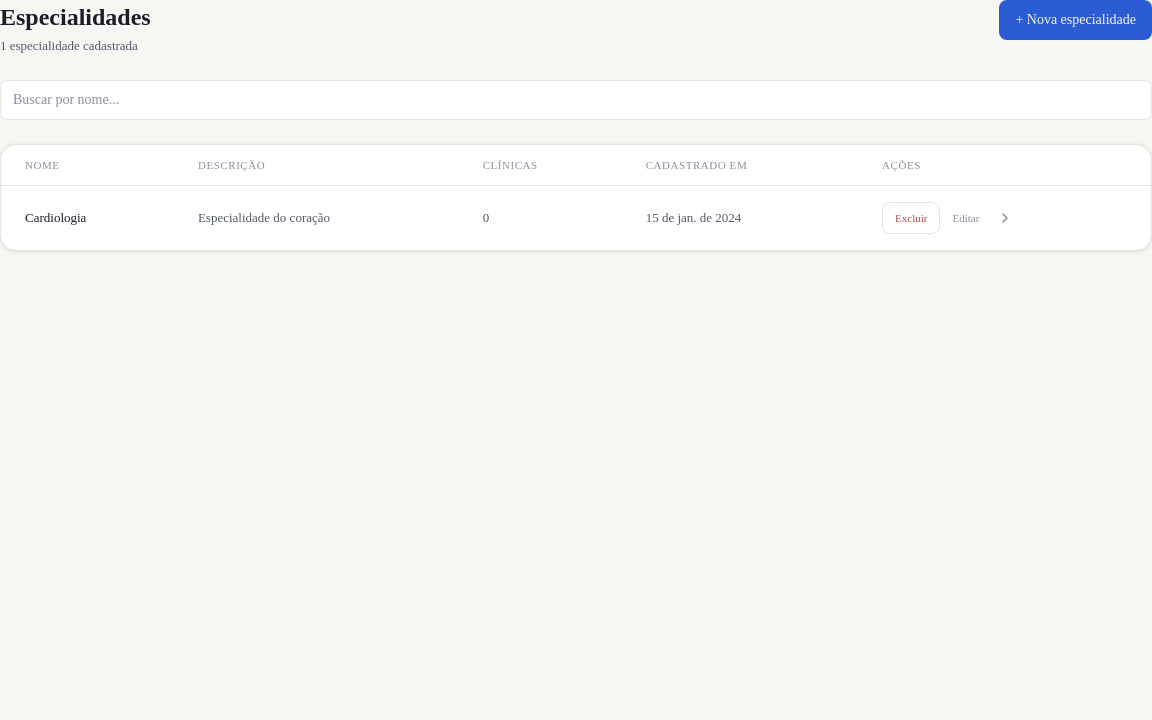
Scenario: SpecialtyList (integration) › as PLATFORM_ADMIN › opens delete dialog when delete button is clicked
The width and height of the screenshot is (1152, 720).
Expected: the table with test id "specialty-list-table" is shown, top-left (1, 145), bottom-right (1151, 250)
Click the button with test id "specialty-delete-button-uuid-1" at coordinates (911, 218), box top-left (882, 202), bottom-right (940, 234)
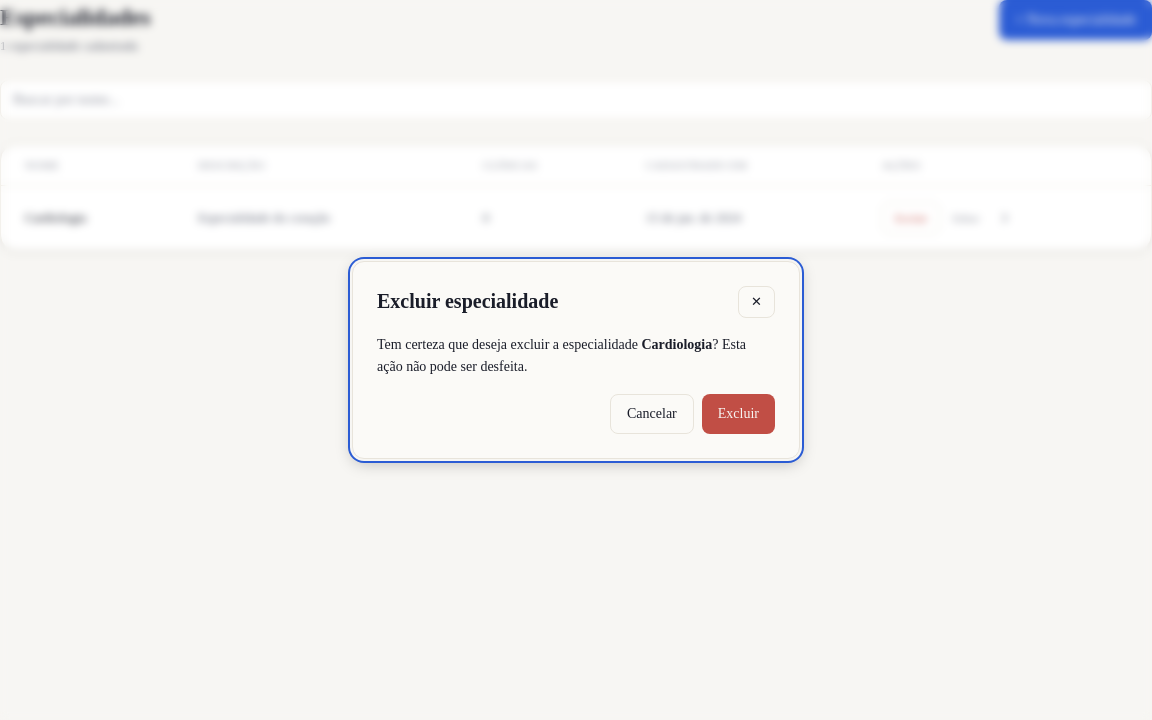
Expected: the button with test id "delete-specialty-dialog-confirm" is shown, top-left (702, 394), bottom-right (775, 434)
